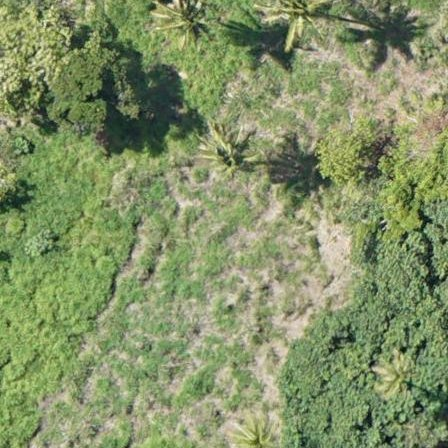palm_tree: (260, 1, 333, 47), (147, 1, 208, 49), (198, 121, 250, 175), (219, 411, 287, 448), (370, 355, 418, 403)
